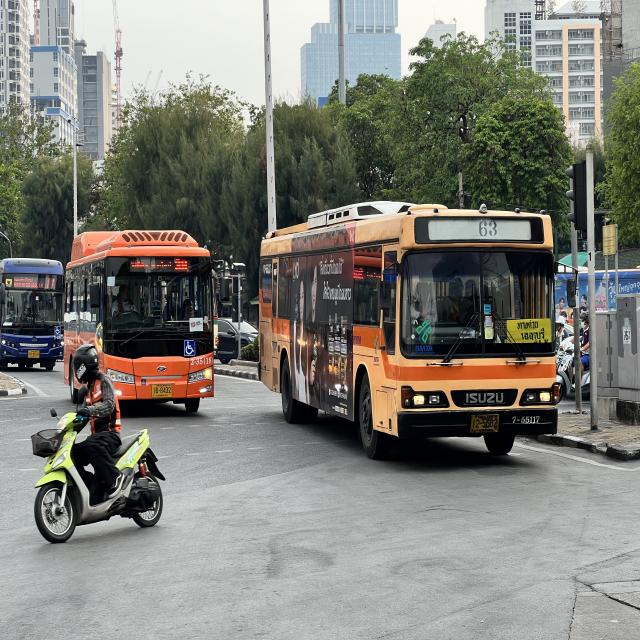BMTA-bus: (254, 196, 562, 464)
Bus-Line-Number: (474, 217, 501, 239), (173, 255, 190, 271), (44, 274, 56, 290)
Destination-Sign-Normal: (130, 260, 174, 272), (13, 274, 44, 290)
Destination-Sign-Normal-Expressway: (506, 319, 552, 343)
TSB-Bus: (63, 226, 216, 418), (0, 251, 64, 375)
